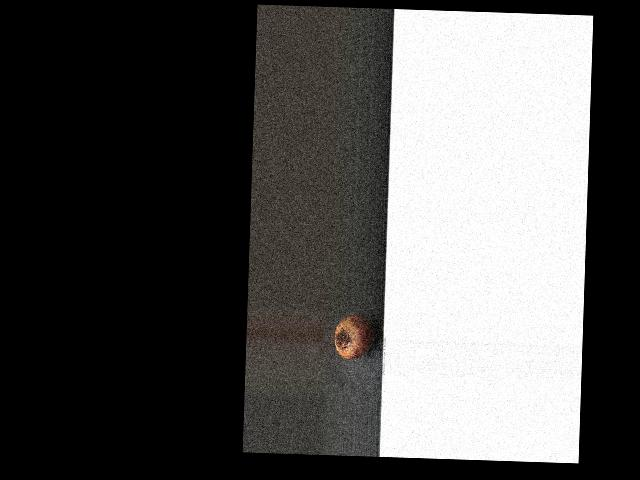beet: (334, 312, 374, 359)
